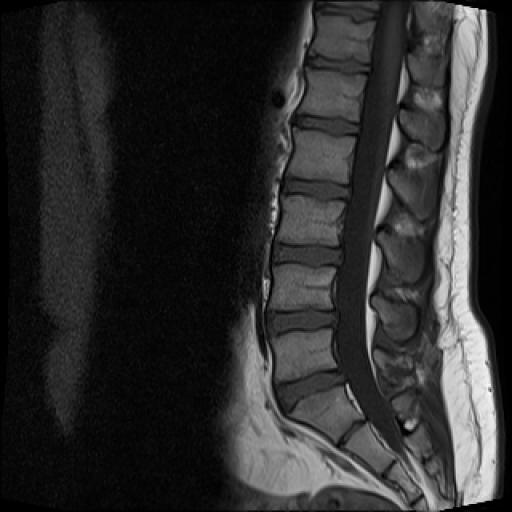L1: (297, 69, 367, 122)
L2: (284, 126, 356, 184)
L3: (274, 194, 345, 248)
L4: (267, 262, 337, 311)
L5: (272, 330, 339, 386)
S1: (288, 386, 364, 442)
